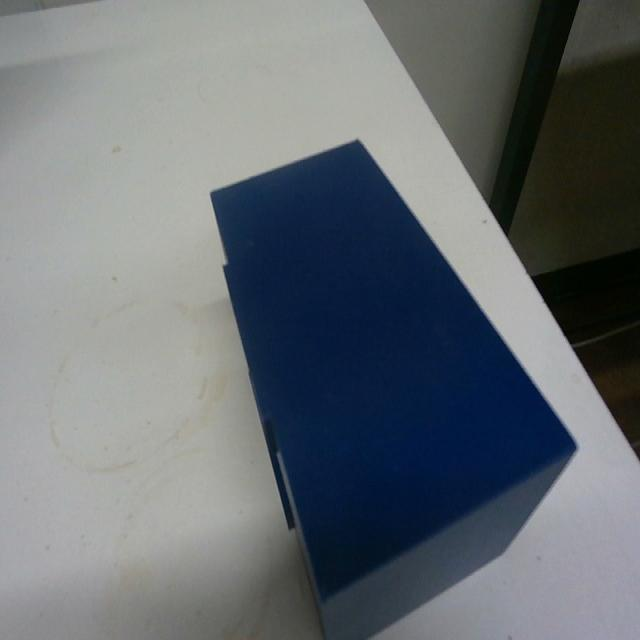Blue Cuboid: (207, 133, 579, 638)
